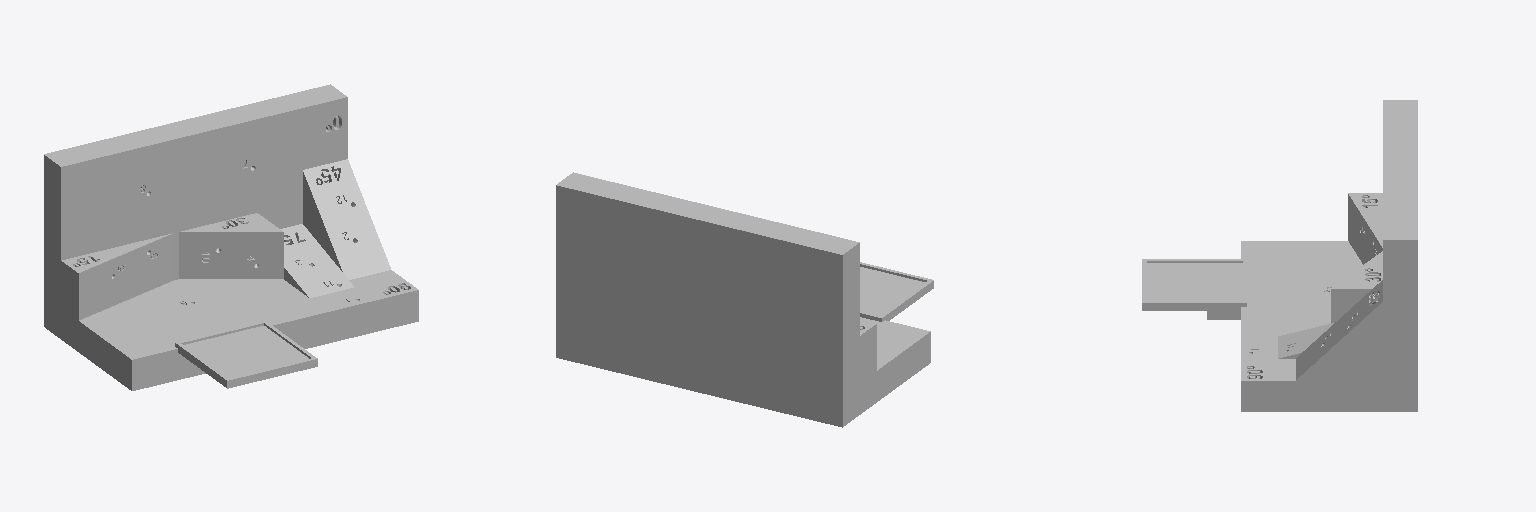
File: Tracking test Volume v14_registered.obj
3 views of the same model, side by side, from view 1: azimuth 30°, elevation 25°; view 2: azimuth 150°, elevation 25°; view 3: azimuth 270°, elevation 25° (orthographic).
Visible parts, largest first — view 1: grp1; view 2: grp1; view 3: grp1.
Boxes of the visible parts, <box> form: grp1: <box>44,84,418,390</box>; grp1: <box>556,172,933,427</box>; grp1: <box>1142,100,1417,411</box>.
Size of the model in its own units: 190 by 109 by 158.